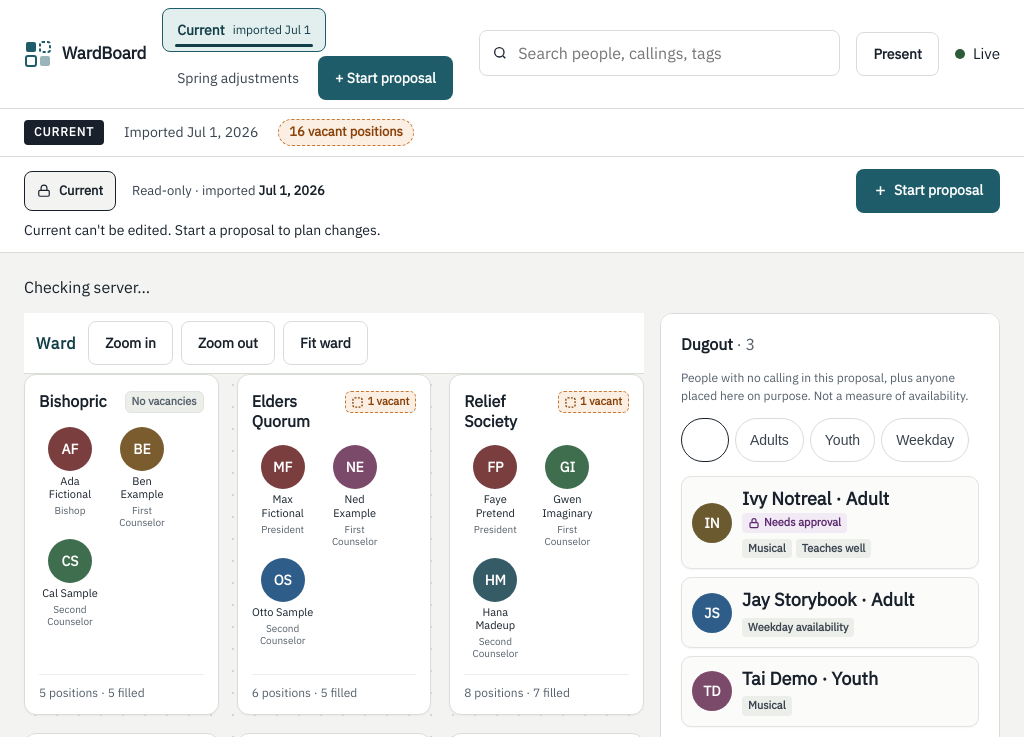
Test case: desktop editing layer › approval after addToList uses the server-committed position id (B-031) › sends nothing and shows the alert when the committed board has no unapproved position for the member
Click the tab "Spring adjustments" at [238, 78], box top-left (162, 56), bottom-right (314, 100)
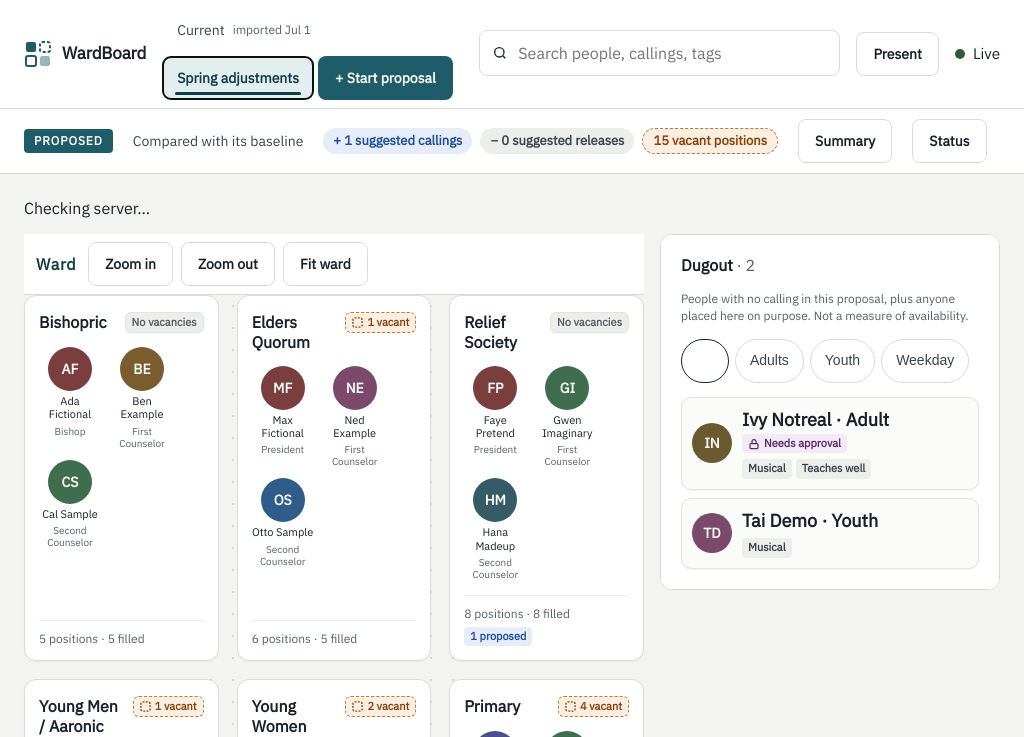
Double-click the element "Relief Society" at [547, 478], box top-left (449, 295), bottom-right (644, 661)
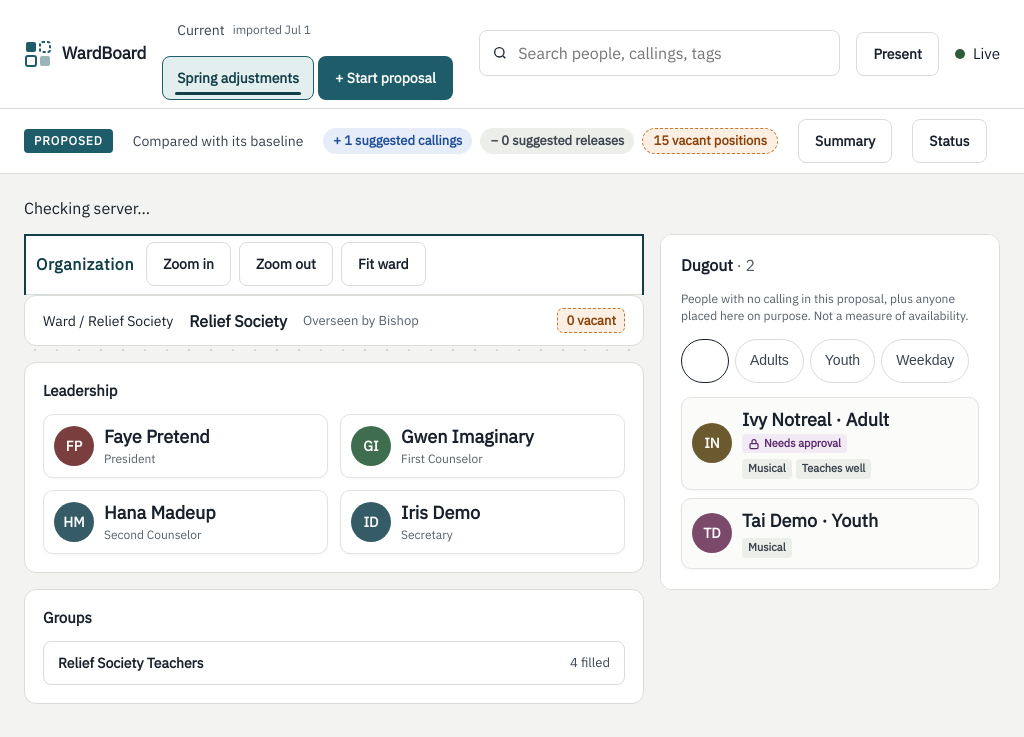
Check: the text with class "wb-canvas-level" reads "Organization", box top-left (36, 254), bottom-right (134, 274)
Double-click the element showing "Relief Society Teachers 4 filled" at [334, 663], box top-left (43, 641), bottom-right (625, 685)
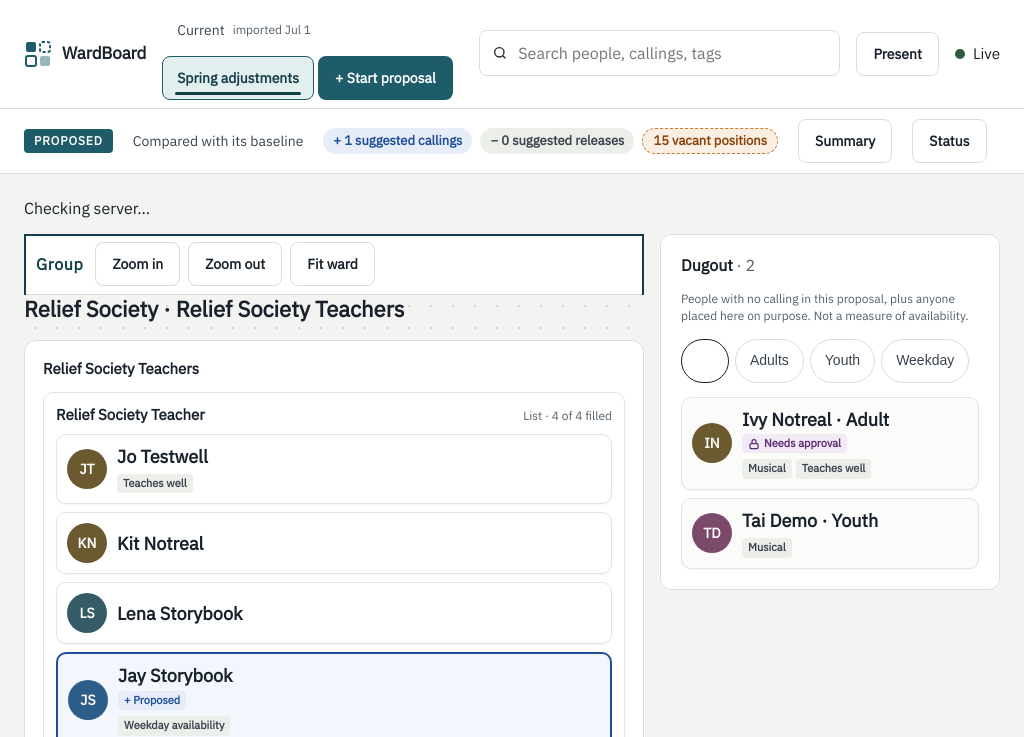
Check: the text with class "wb-canvas-level" reads "Group", box top-left (36, 254), bottom-right (84, 274)
Press the mouse on the element showing "IA Ivy Notreal · Adult Needs approval Musical Teaches well" at [830, 443], box top-left (681, 397), bottom-right (979, 490)
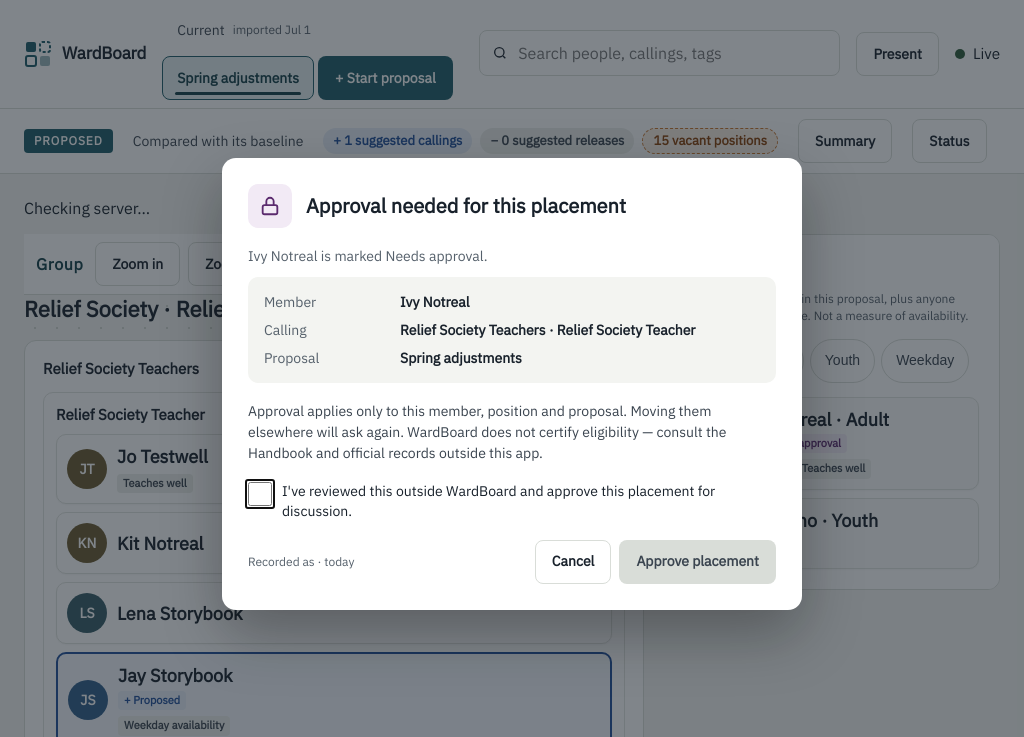
Click the checkbox labelled "I've reviewed this outside WardBoard and approve this placement for discussion." at [260, 494], box top-left (248, 482), bottom-right (272, 506)
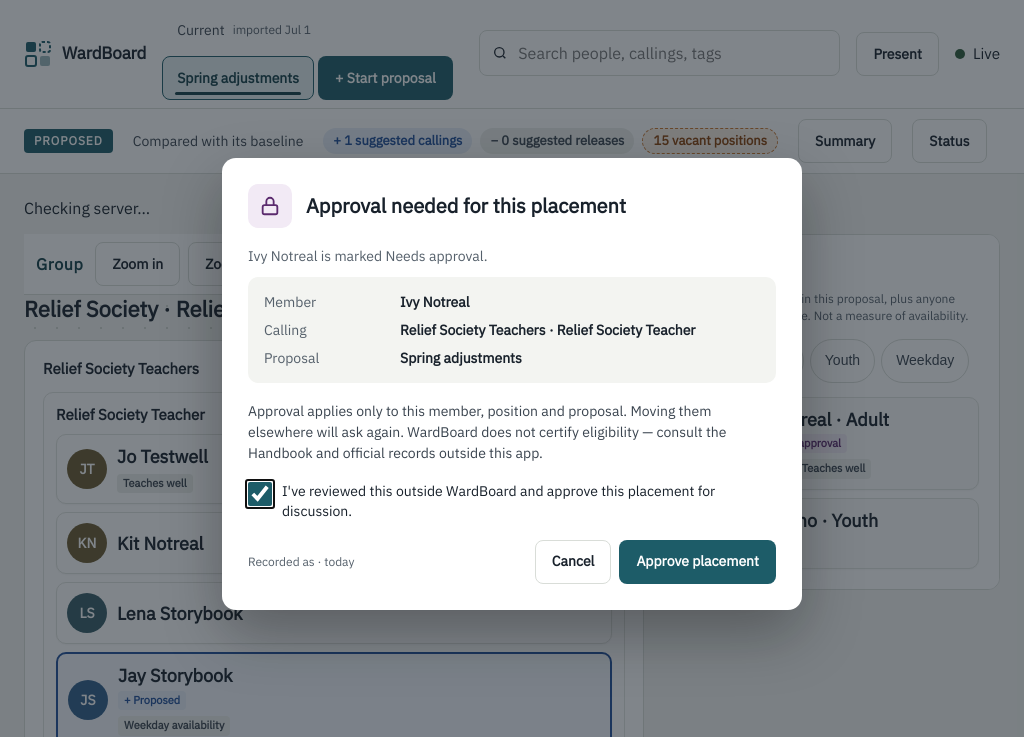
Click the button "Approve placement" at [698, 562], box top-left (619, 540), bottom-right (776, 584)
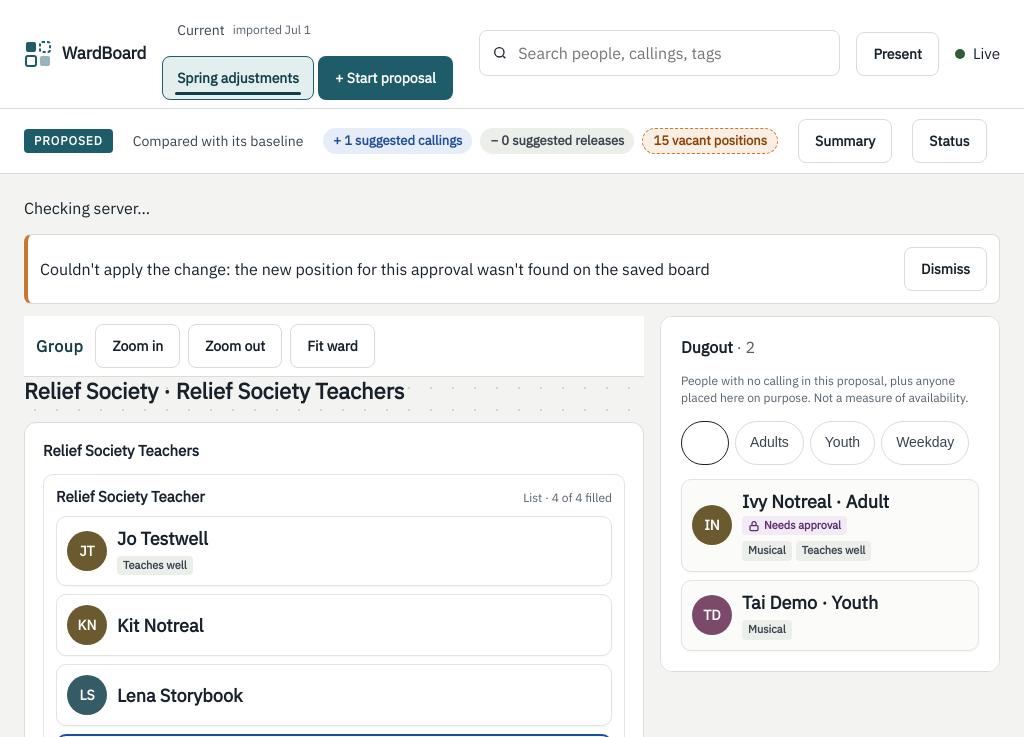
Check: the 3rd message is shown, box top-left (24, 234), bottom-right (1000, 304)
